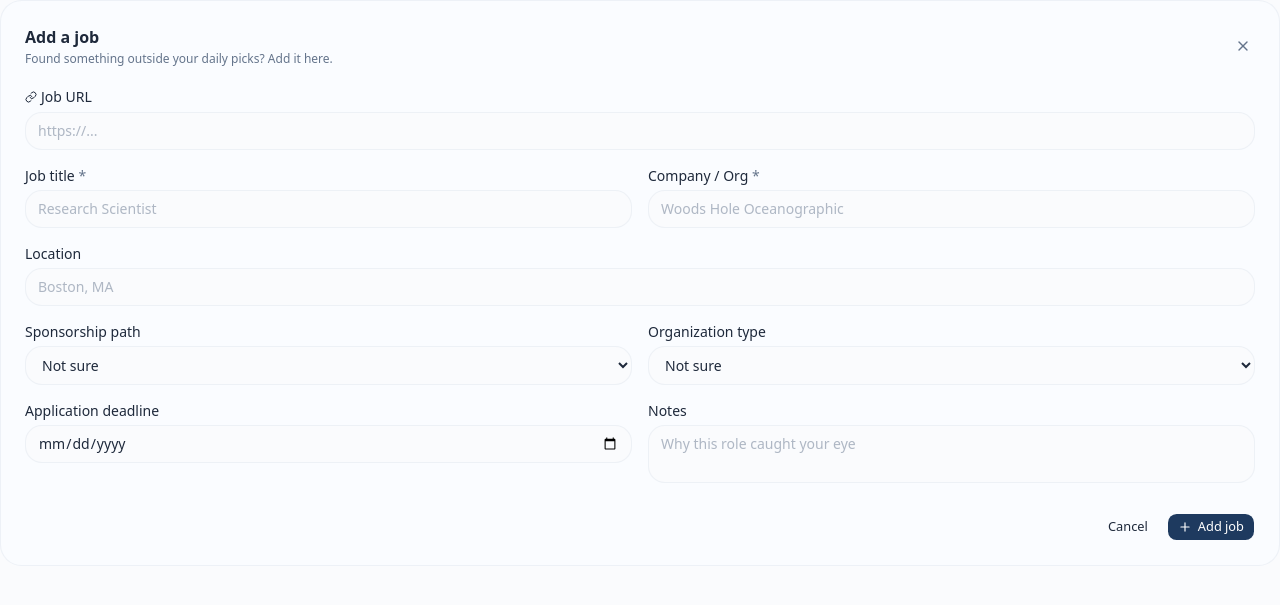
Test: AddJobForm › shows error message when analysis fails
The image size is (1280, 605).
In the field labelled "Job URL": coordinates (640, 131) [25,112,1255,150], type "https://private.jobs.com/123"
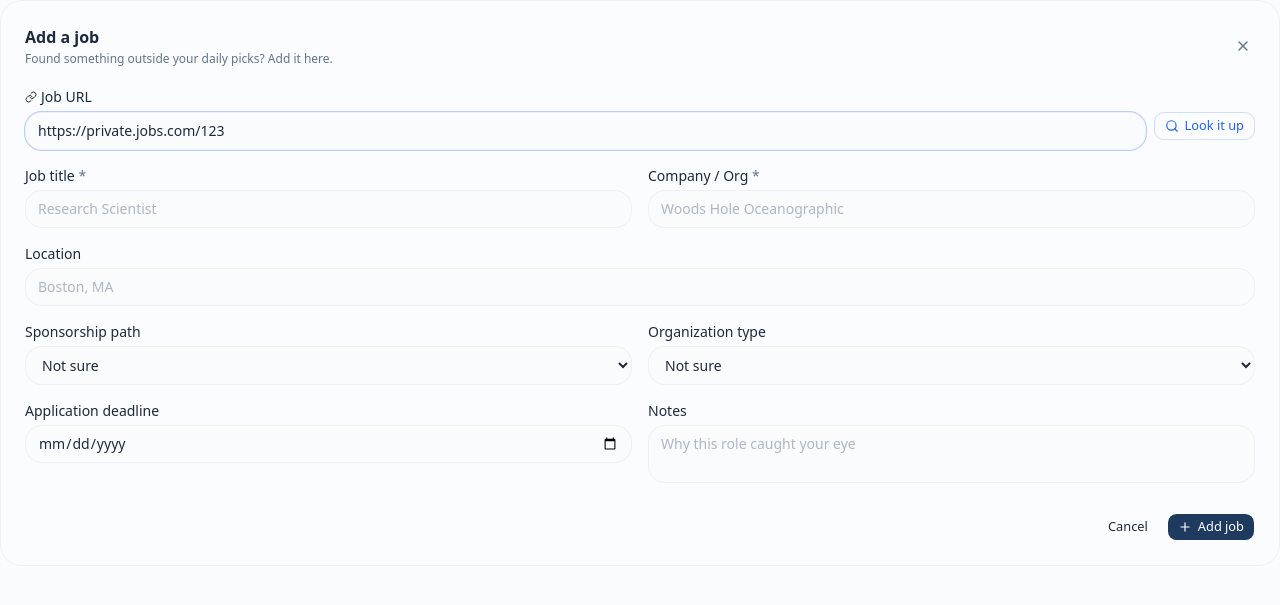
Click the button with aria-label "look up job details": coordinates (1204, 126) [1154,112,1255,140]
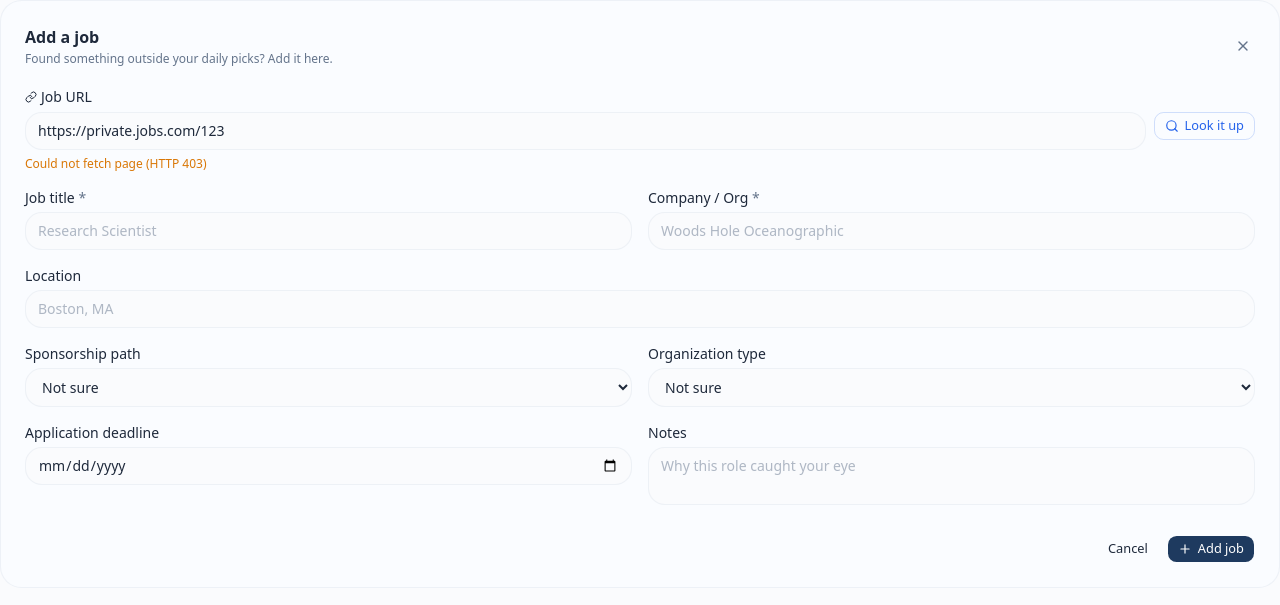
Now the text "Could not fetch page (HTTP 403)" is shown, box [25,155,206,172]
